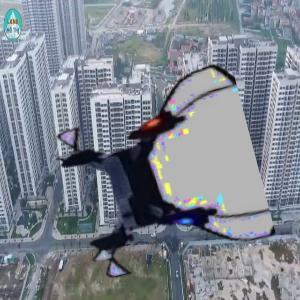drone: (60, 80, 259, 279)
